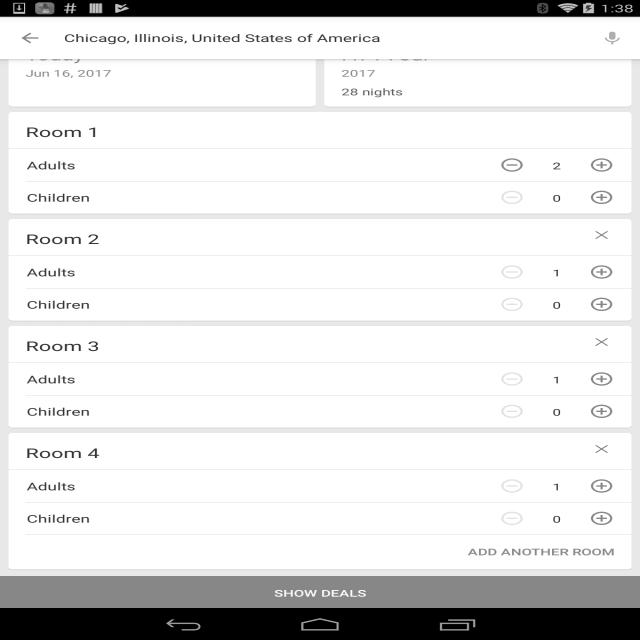Button: (0, 576, 640, 608), (459, 540, 623, 564)
EditText: (60, 26, 584, 50)
ImageButton: (0, 17, 60, 59), (580, 184, 623, 211), (580, 291, 623, 318), (580, 398, 623, 425), (580, 505, 623, 532), (491, 184, 533, 211), (491, 291, 533, 318), (491, 398, 533, 425), (491, 505, 533, 532), (580, 152, 623, 178), (580, 259, 623, 285), (580, 366, 623, 392), (580, 473, 623, 499), (491, 152, 533, 178), (491, 259, 533, 285), (491, 366, 533, 392), (491, 473, 533, 499)
ImageView: (593, 26, 632, 50), (589, 227, 614, 243), (589, 334, 614, 350), (589, 441, 614, 457)
TextView: (26, 120, 614, 143), (26, 227, 588, 250), (26, 334, 588, 357), (26, 441, 588, 464), (26, 157, 473, 176), (26, 264, 473, 283), (26, 371, 473, 390), (26, 478, 473, 497), (26, 190, 473, 208), (26, 297, 473, 315), (26, 404, 473, 422), (26, 511, 473, 529), (341, 46, 429, 64), (26, 66, 111, 82), (534, 152, 580, 180), (534, 184, 580, 212), (534, 258, 580, 286), (534, 291, 580, 319), (534, 366, 580, 394), (534, 398, 580, 426), (534, 472, 580, 500), (534, 505, 580, 533), (341, 85, 403, 102), (26, 46, 84, 64), (342, 66, 376, 82)
